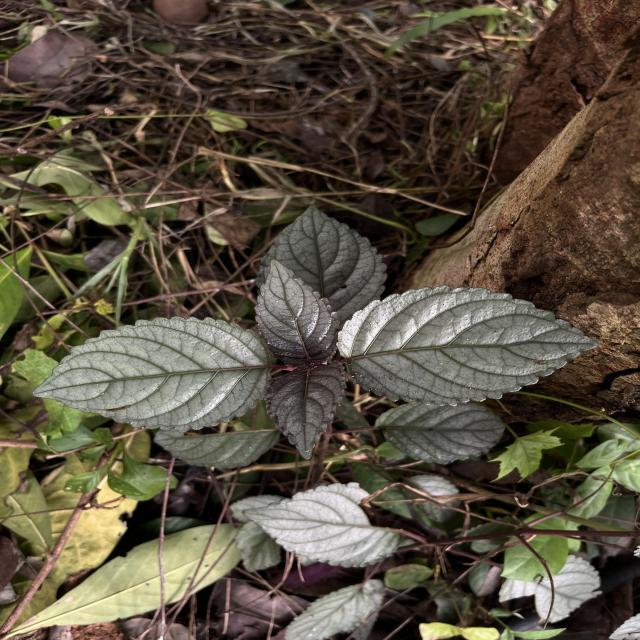Hemigraphis colorata: (334, 284, 603, 411), (28, 313, 274, 435), (238, 479, 406, 572), (252, 200, 392, 300), (252, 256, 342, 364), (371, 399, 509, 466), (261, 360, 350, 461)
